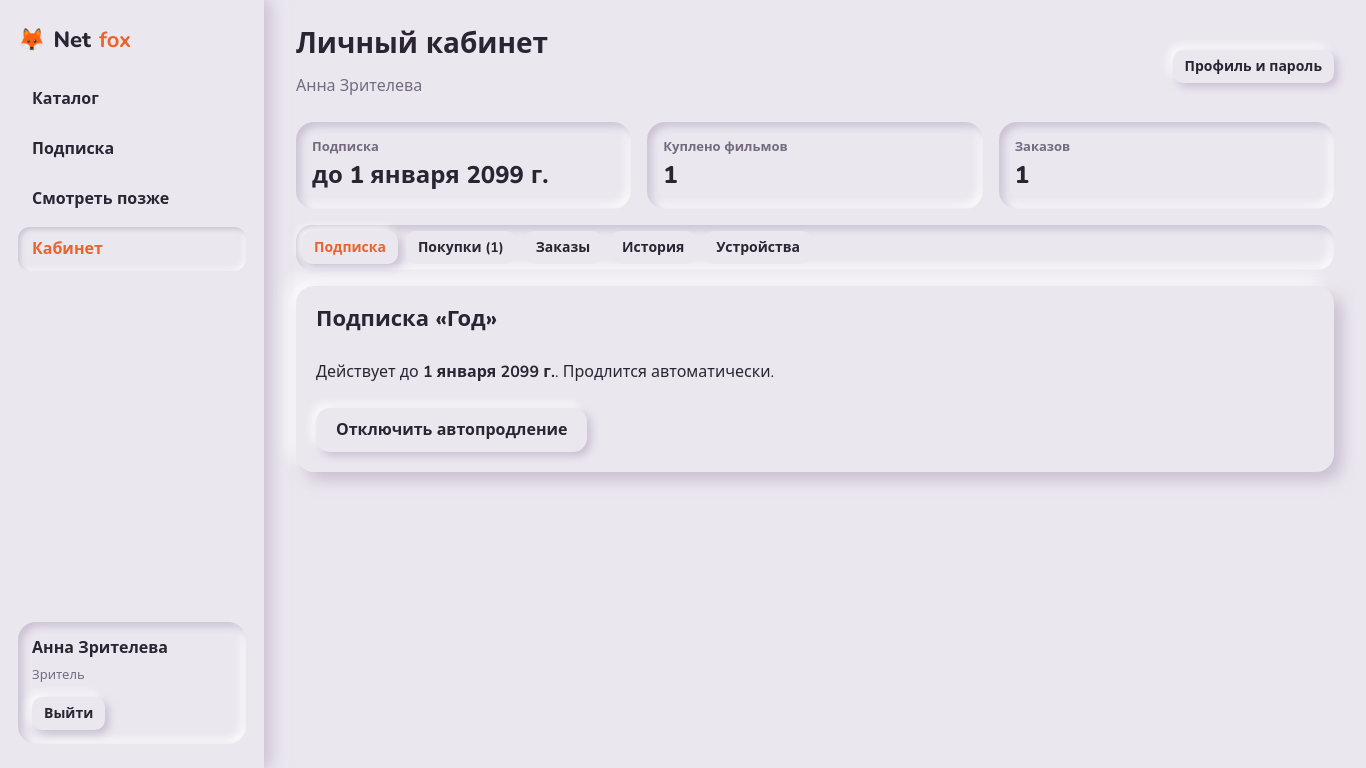
Test case: зритель: от витрины до просмотра › кабинет: заказы, история, автопродление и завершение сеанса на ТВ
This screenshot has width=1366, height=768.
Expected: the element "Куплено фильмов" shows "1", [663,159,678,191]
Expected: the text "Продлится автоматически" is shown, [563,362,774,384]
Click the button "Отключить автопродление". click: (452, 430)
box: [316,408,588,452]
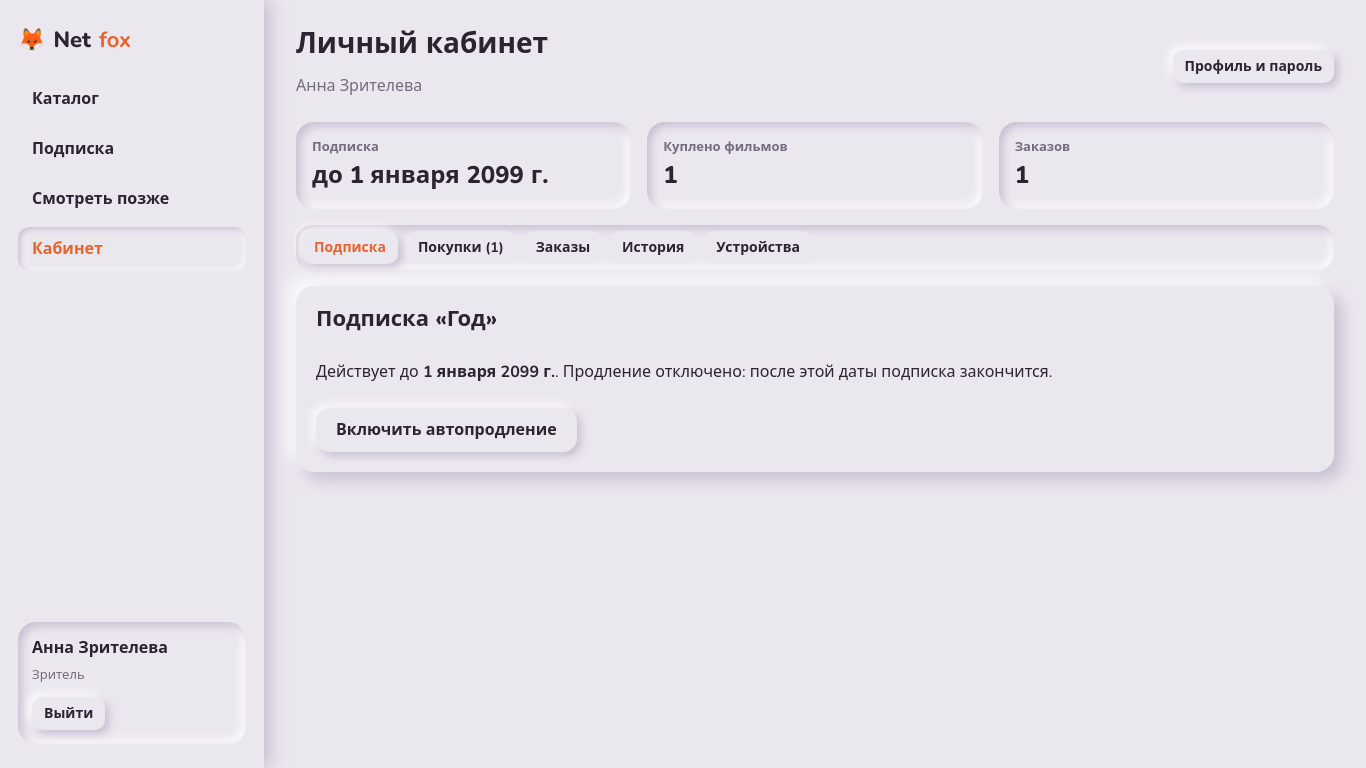
Now the text "Продление отключено" is shown, box [563,362,1052,384]
Click the tab "Заказы". click: (563, 248)
box: [524,231,602,264]
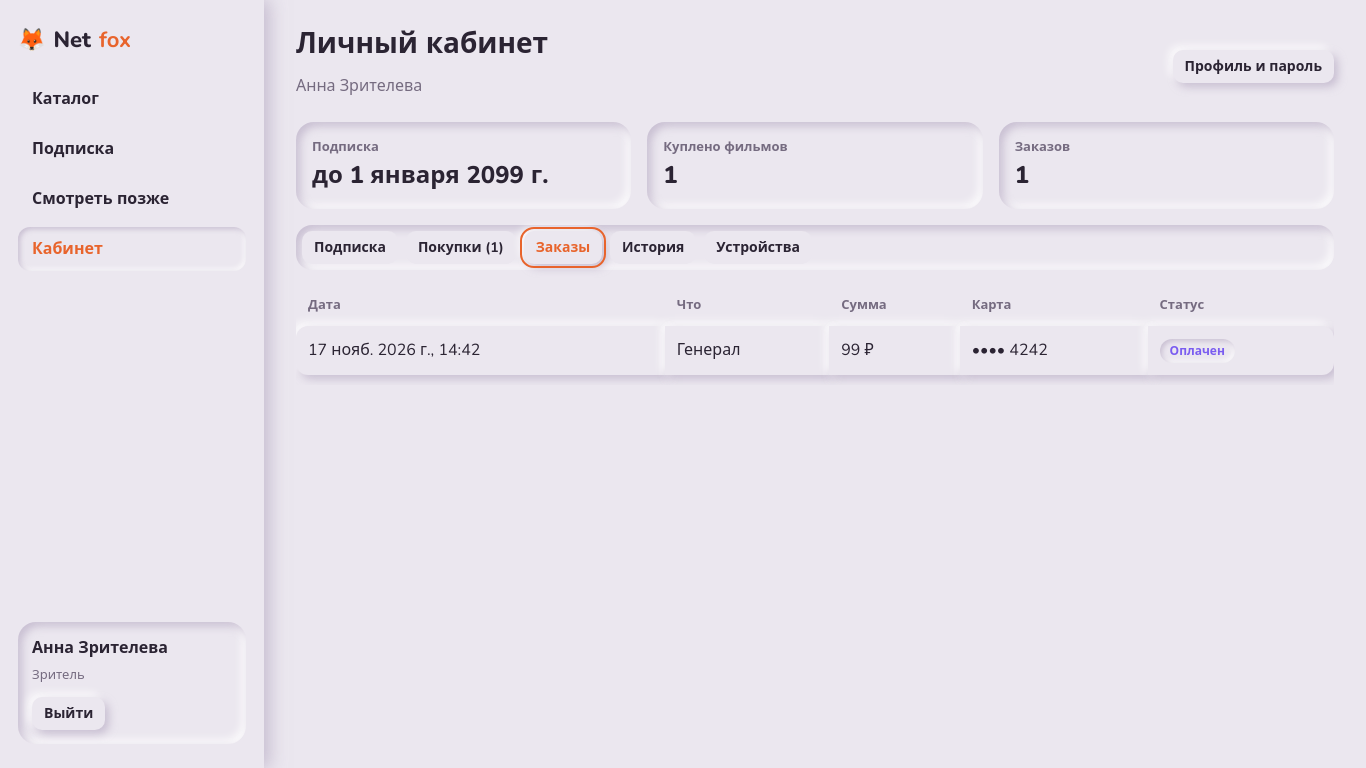
Now the text "Оплачен" is shown, box [1160,339,1235,363]
Click the tab "История". click: (653, 248)
box: [610,231,696,264]
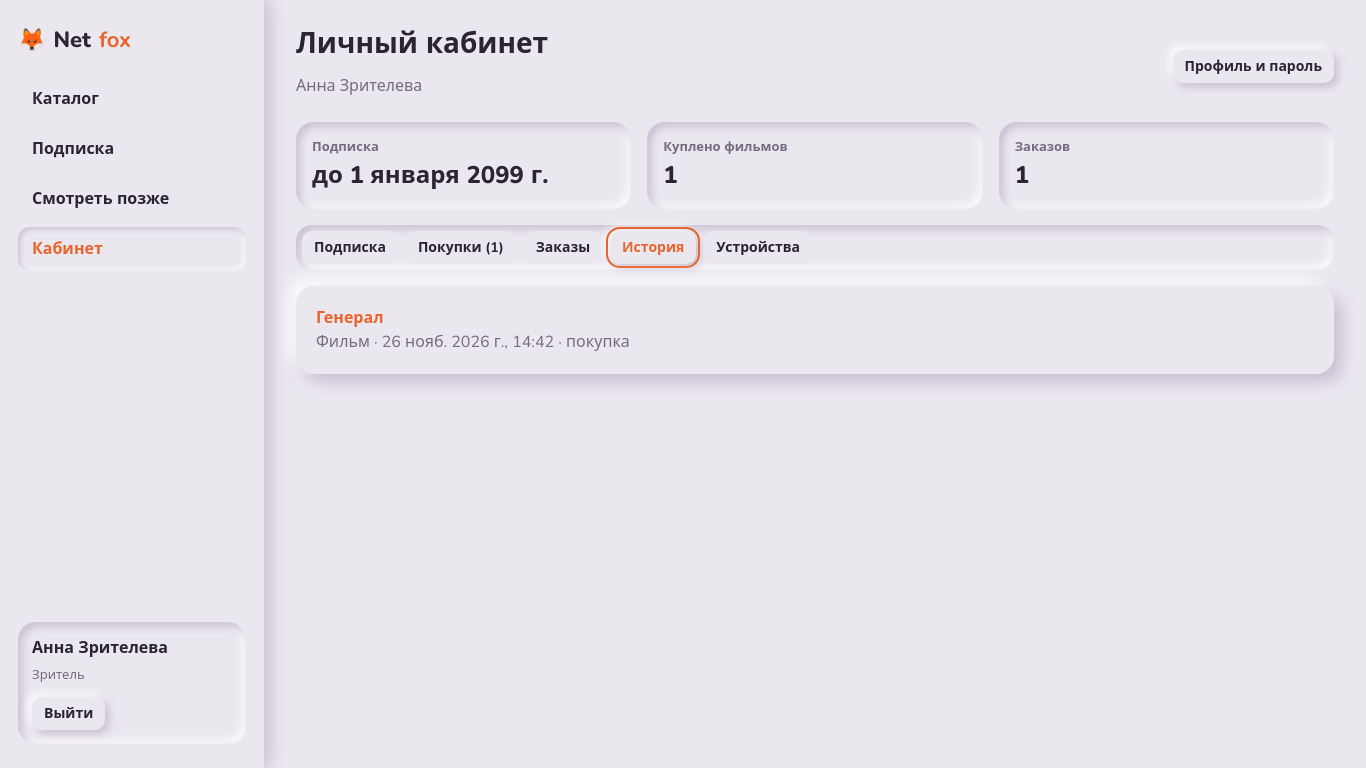
Now the element that starts with "Генерал" is shown, box [316,307,384,329]
Click the tab "Устройства". click: (758, 248)
box: [704,231,812,264]
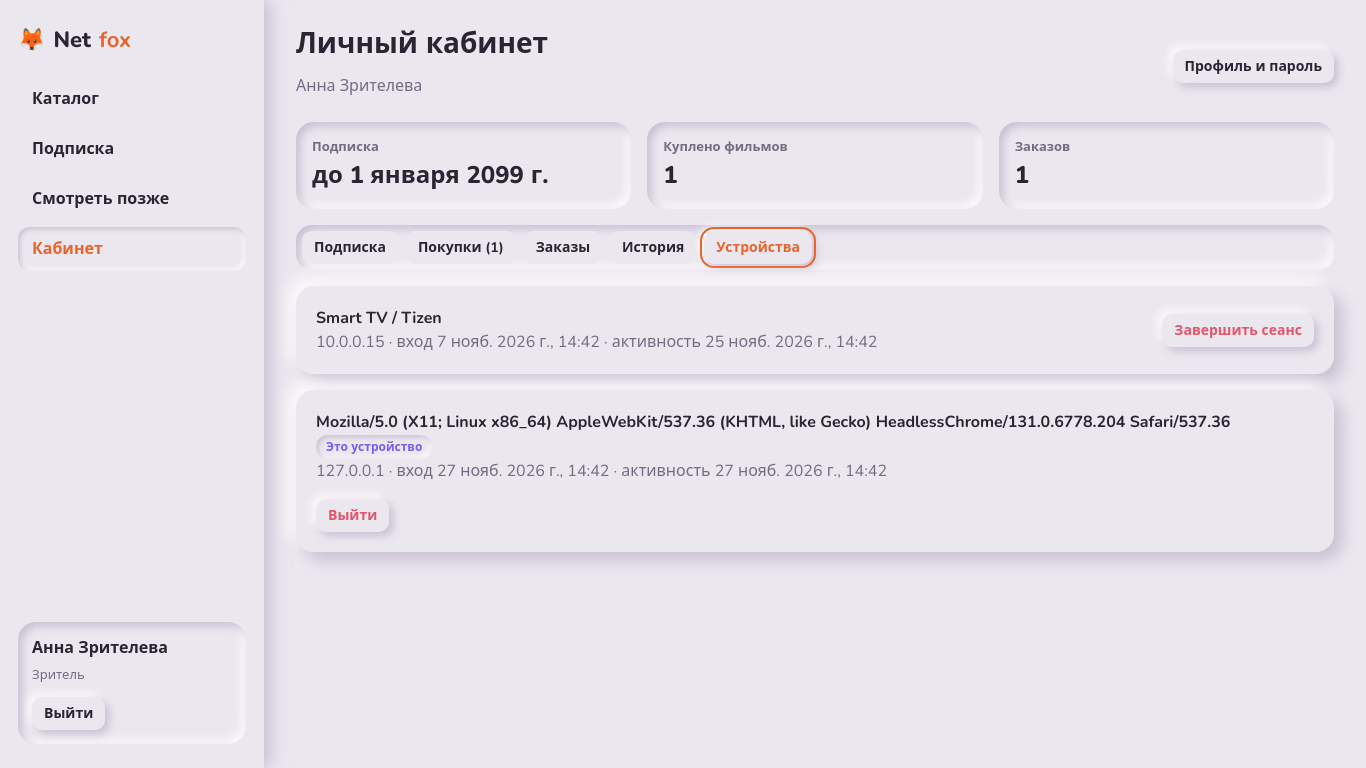
Now the text "Smart TV / Tizen" is shown, box [316,307,442,329]
Now the text "Это устройство" is shown, box [316,435,432,459]
Click the button "Завершить сеанс". click: (1238, 330)
box: [1162,314,1314,347]
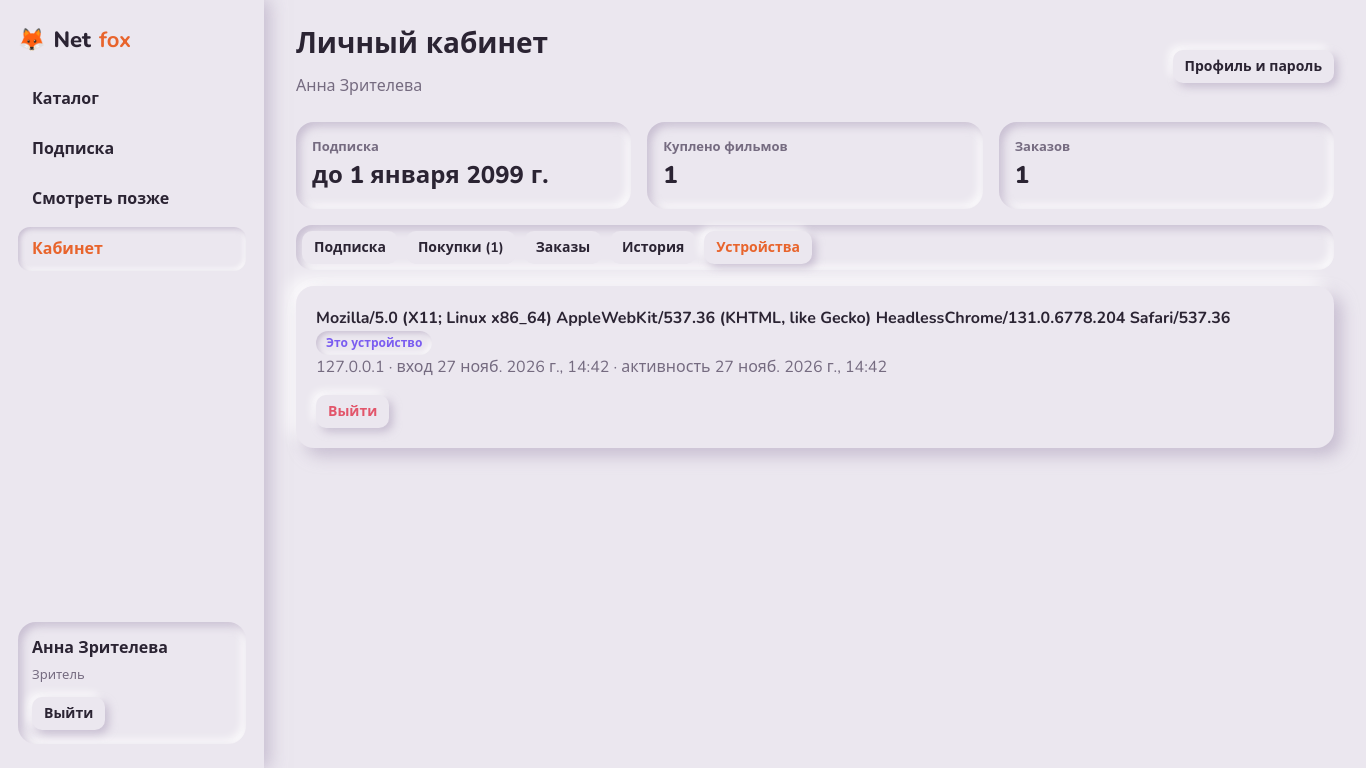
Now the text "Smart TV / Tizen" is gone
